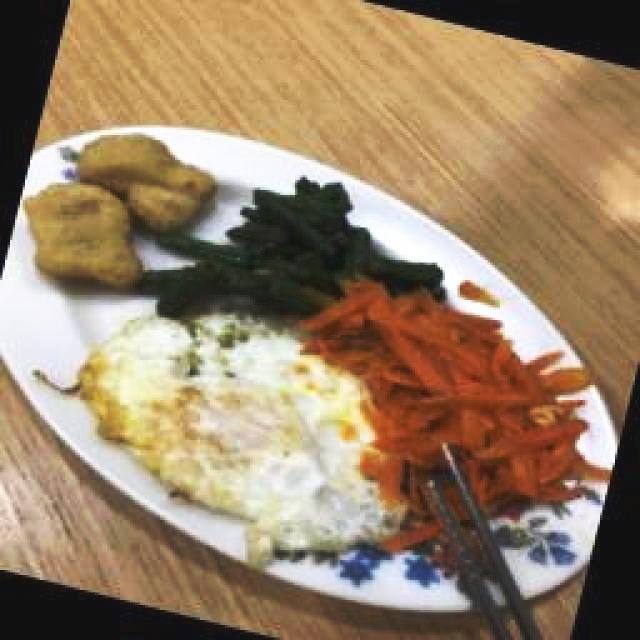carrot_eggs: (300, 268, 602, 526)
chicken_nuggets: (77, 130, 219, 231), (23, 180, 147, 295)
fried_eggs: (76, 306, 410, 567)
water_spinach: (138, 173, 445, 318)
